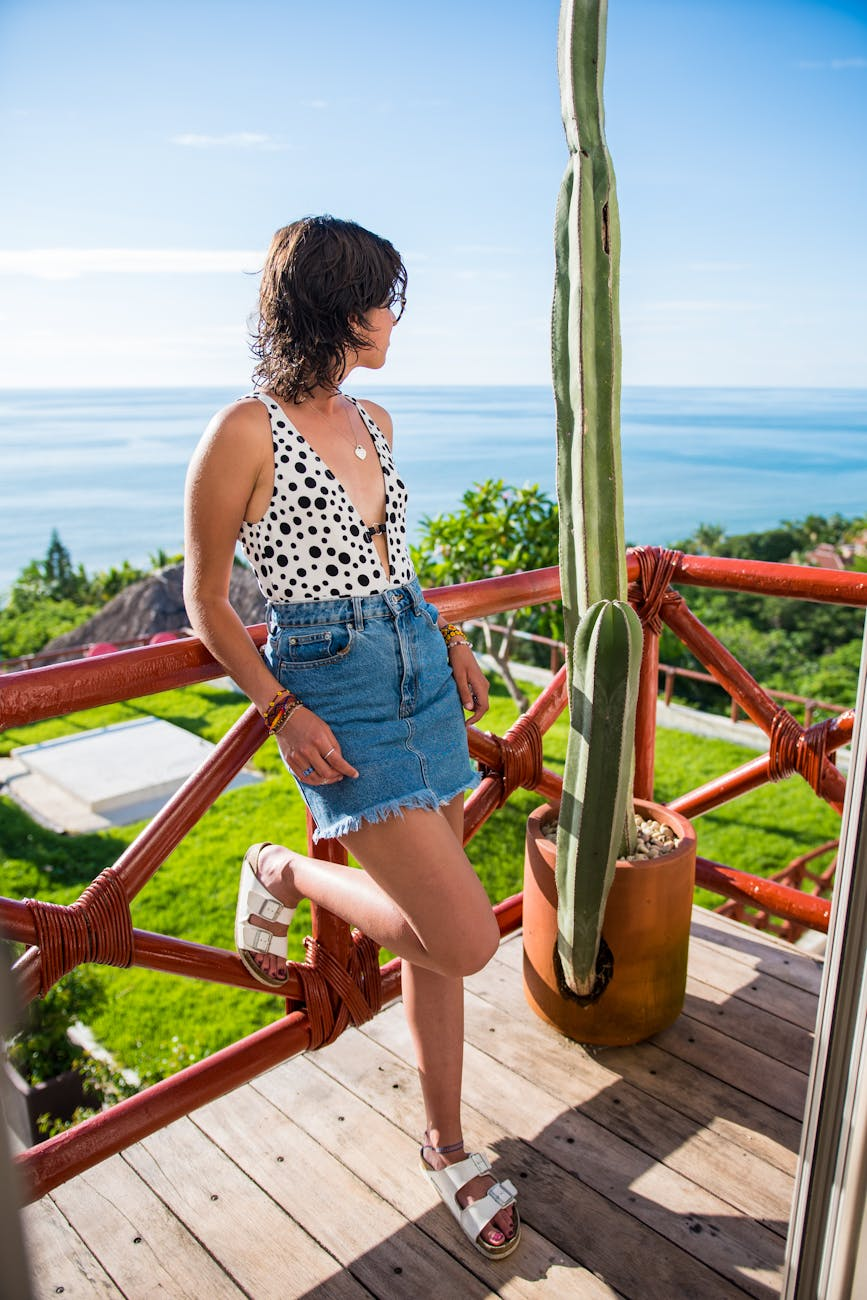opened_foot: (407, 1127, 539, 1261), (226, 834, 324, 986)
short_medium_skirt: (236, 592, 509, 844)
sleeveless_top: (178, 382, 462, 617)
